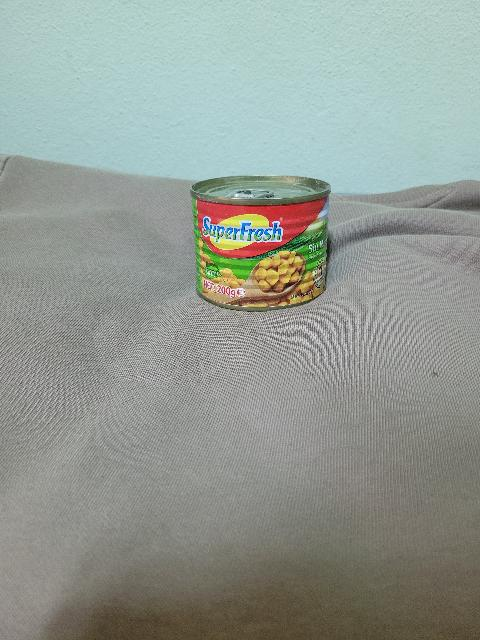Metal: (187, 167, 336, 313)
